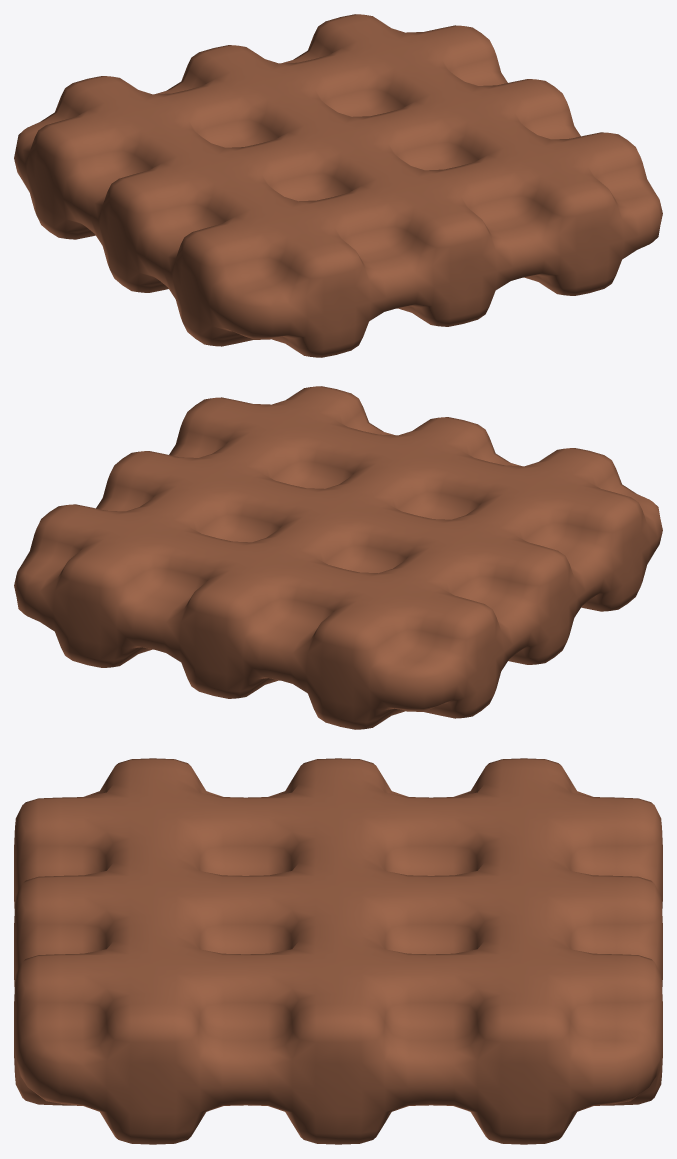
Rendered from Waffle_01.fbx.
3 renders of one model, top to bottom at view 1: azimuth 30°, elevation 25°; view 2: azimuth 150°, elevation 25°; view 3: azimuth 270°, elevation 25°, orthographic. The views are drawn at different scales.
Visible parts, largest first — view 1: Waffle_01_LOD0; view 2: Waffle_01_LOD0; view 3: Waffle_01_LOD0.
Boxes of the visible parts, box(x1,y1,x2,y2) form: Waffle_01_LOD0: box(14, 14, 662, 357); Waffle_01_LOD0: box(14, 386, 662, 729); Waffle_01_LOD0: box(14, 758, 662, 1144).
Size of what is drawn, in the model's own units: 558 by 124 by 558.
